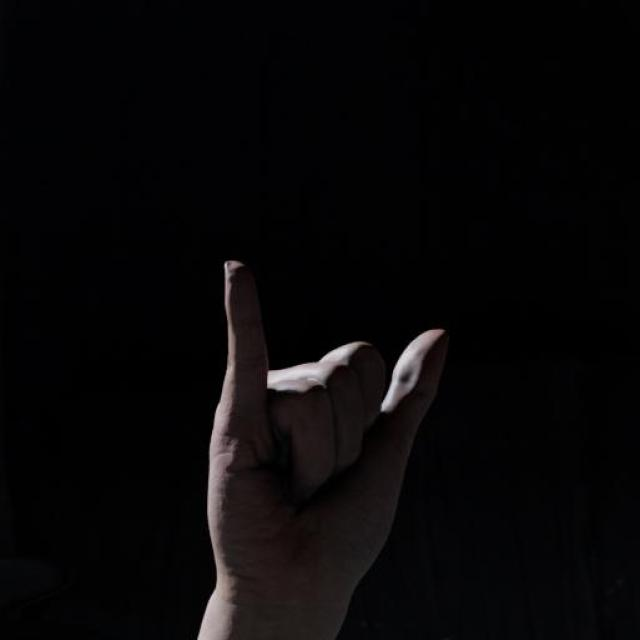Y: (201, 255, 454, 617)
